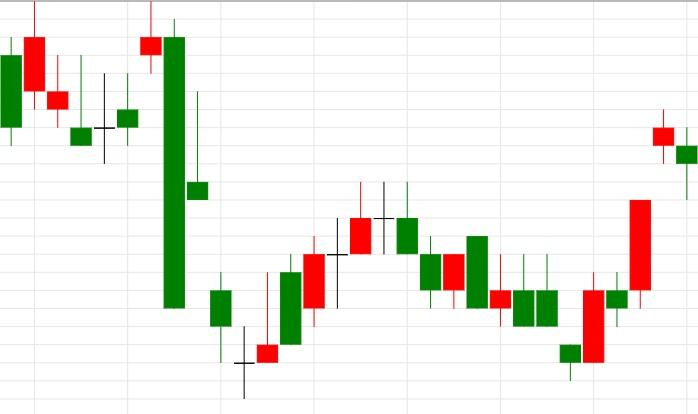evening_star_fall: (233, 182, 419, 399)
inverse_hammer_rise: (23, 0, 93, 147)
